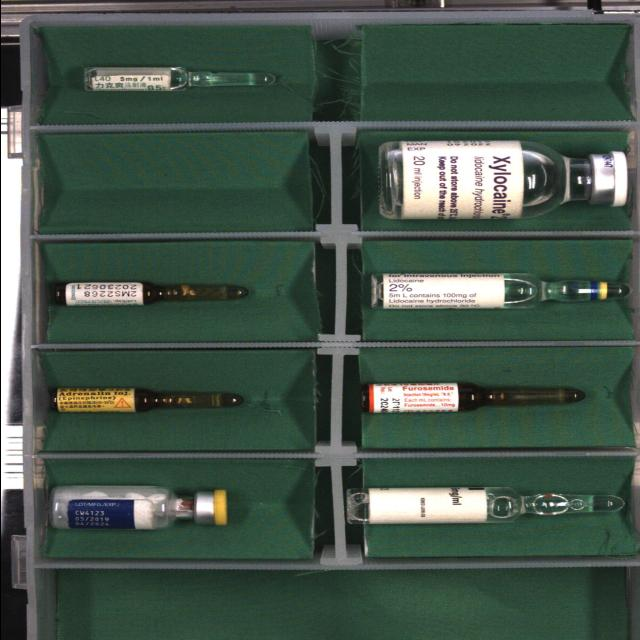Vials: (378, 141, 627, 219), (49, 485, 227, 530)
